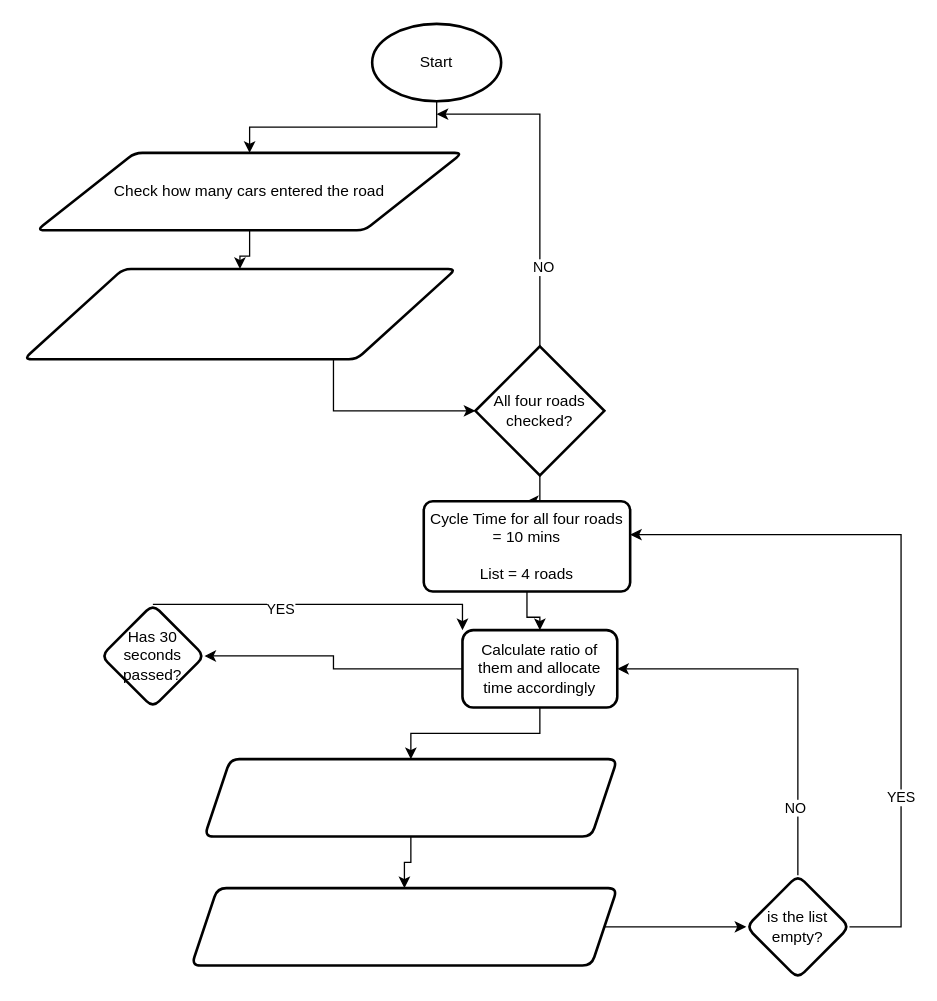
Some shapes in this 937 by 1001 pixel diagram are drawn without their labels. Each missing label, with the centre of its shape:
"Check how many cars exited the road" belongs at pixel 239 313.
"If it exceeds the allocated time then set Red light here and pop from the list" belongs at pixel 404 926.
"set Green Light on the road with max cars from the list" belongs at pixel 410 797.
